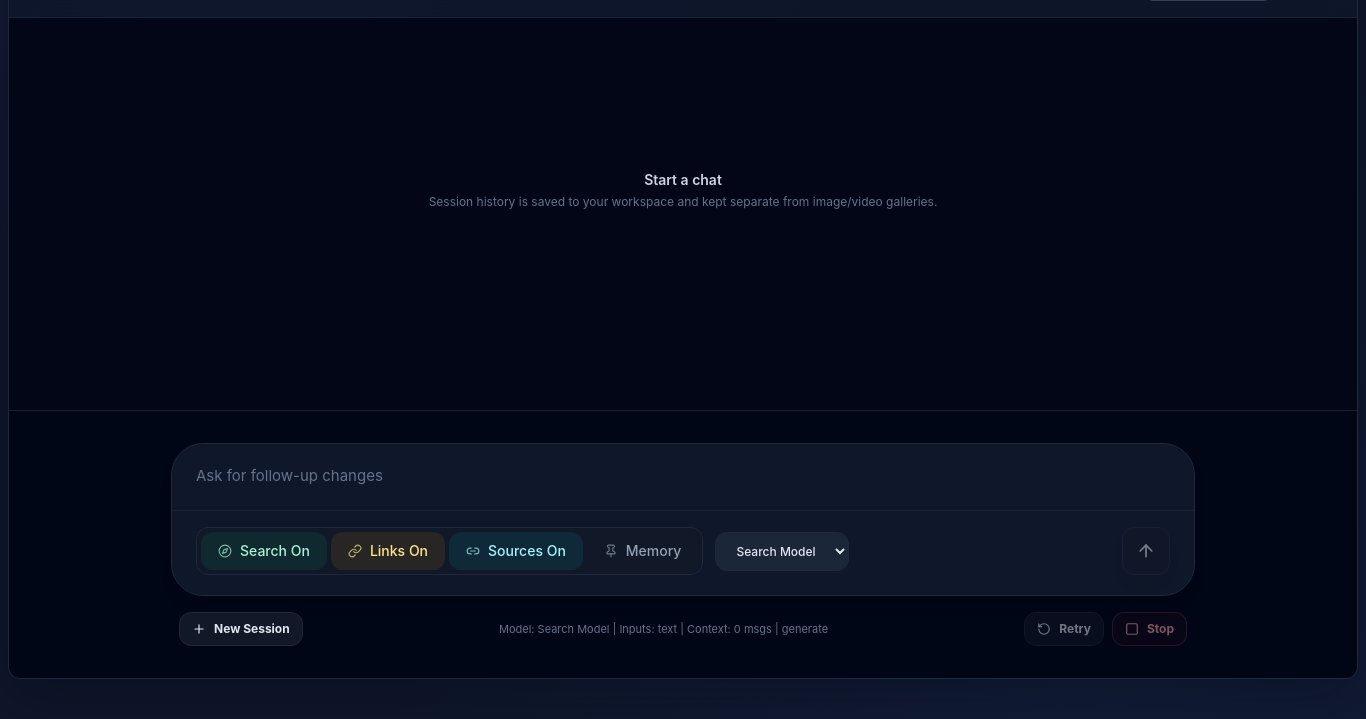
AIChat formatted-response regressions › renders "Search: On (Unavailable)" in assistant metadata when search was requested but not applied
The width and height of the screenshot is (1366, 719).
(page scrolled)
Type "Find latest info" into the text box with placeholder "Ask for follow-up changes" at (683, 474), box [172,444,1194,504]
Then press Enter
(page scrolled)
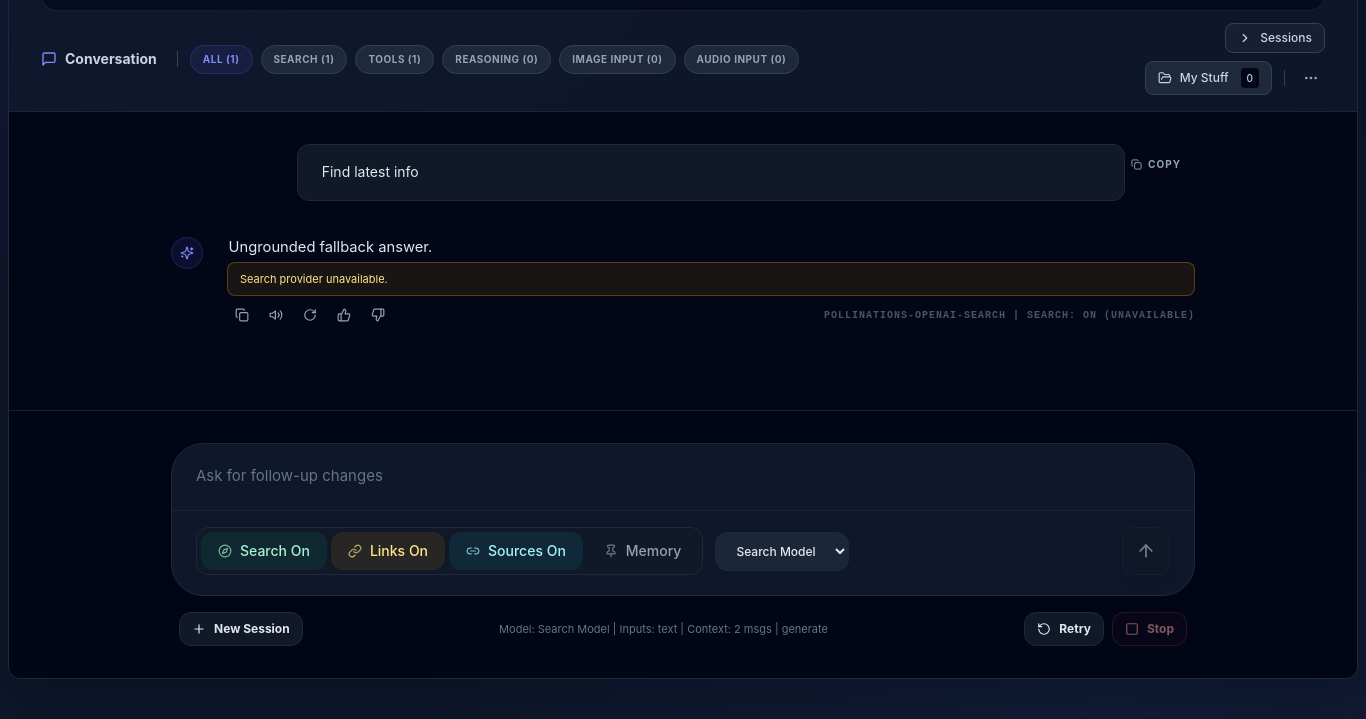
Result: the text "Ungrounded fallback answer." is shown at [229,238,432,256]
Result: the text "pollinations-openai-search | Search: On (Unavailable)" is shown at [824,308,1195,323]
